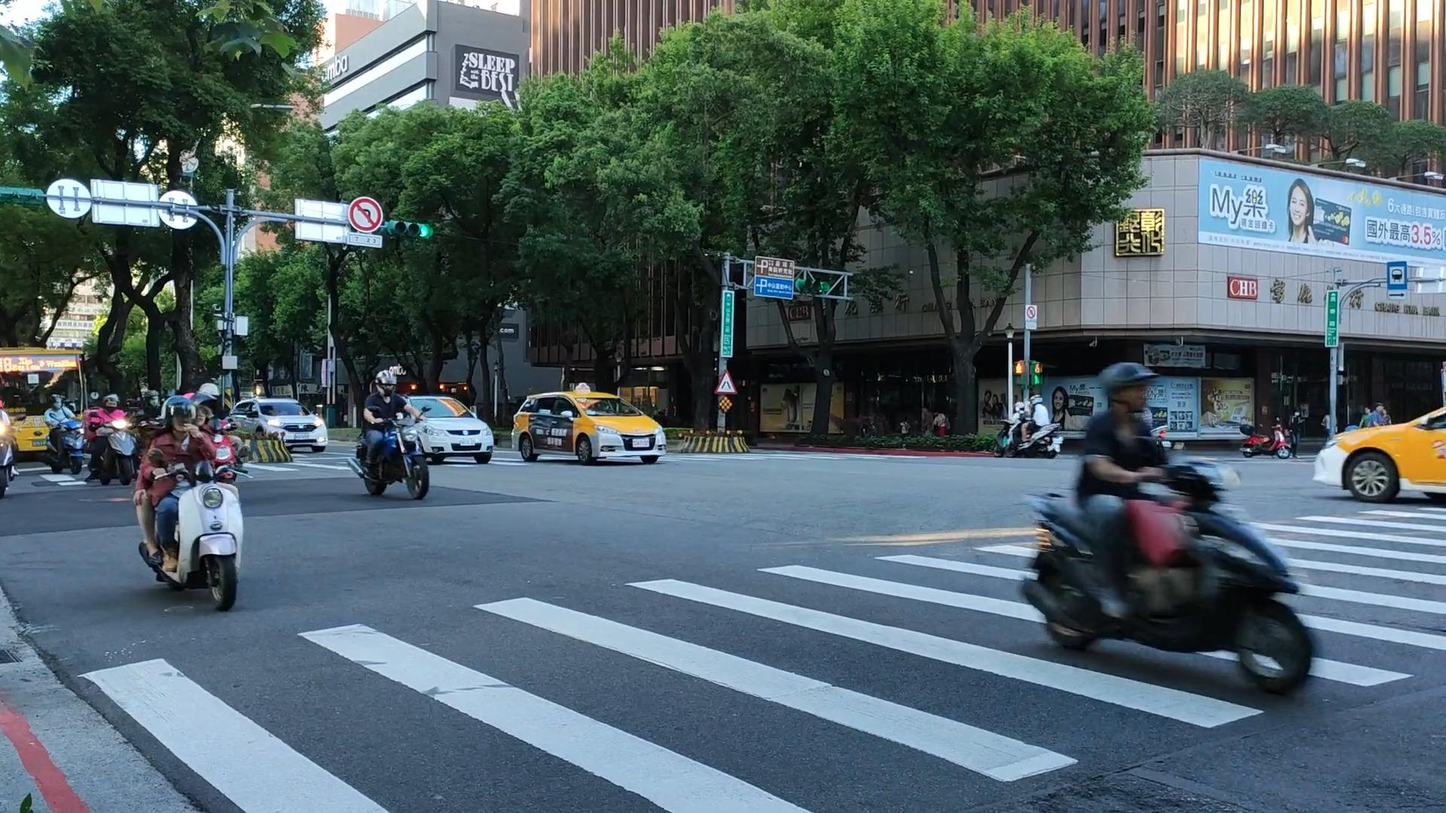driver: (1018, 361, 1313, 696), (133, 392, 252, 611), (347, 369, 431, 501), (83, 395, 136, 485), (41, 394, 84, 475)
helmet: (1098, 361, 1160, 414), (160, 395, 196, 434), (182, 392, 217, 428), (375, 369, 398, 397), (102, 394, 120, 414)
